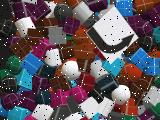Left: (86, 6, 138, 64)
